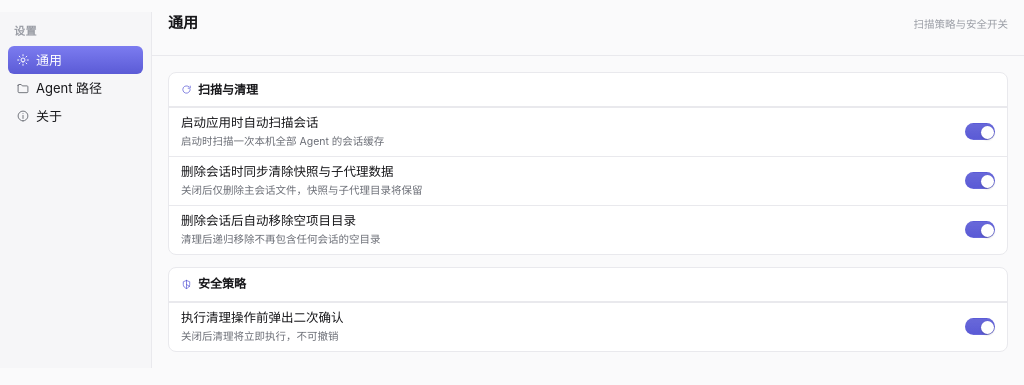
Test: SettingsView · Agent 路径页 › 没扫过（agentInfos 为空）→ 引导回主窗口扫描
This screenshot has width=1024, height=385.
Step 1. Click the button "Agent 路径" → (76, 88), box [8,74,143,102]
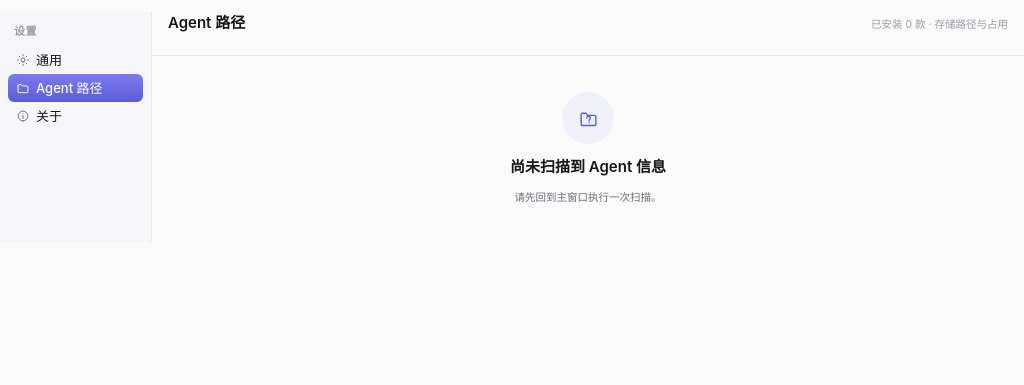
Now the heading "尚未扫描到 Agent 信息" is shown, box [510,156,666,178]
Now the text "请先回到主窗口执行一次扫描。" is shown, box [514,190,662,206]
